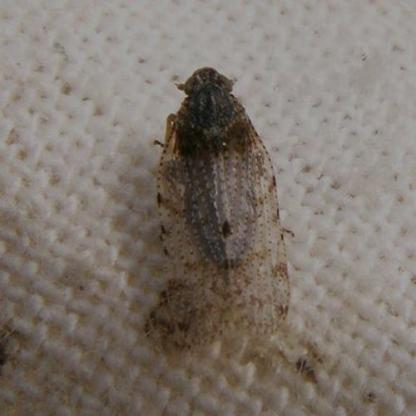brown-planthopper: (155, 61, 292, 346)
